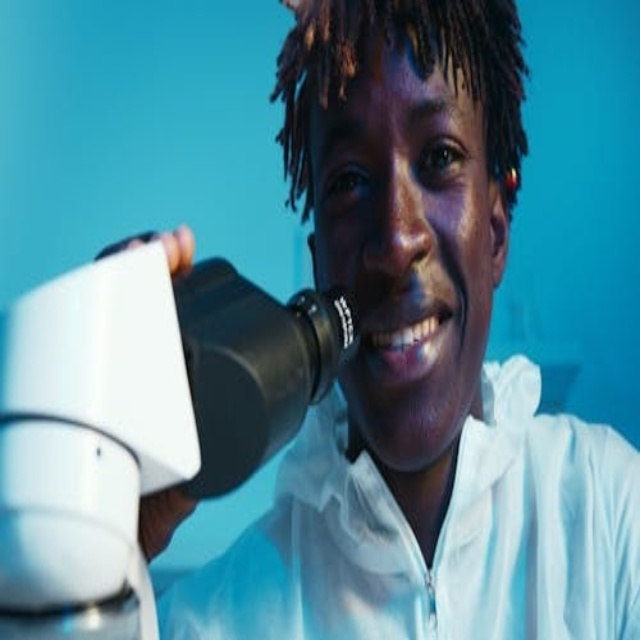Sin_gafas: (314, 84, 468, 205)
Sin_mascara: (356, 289, 463, 440)
